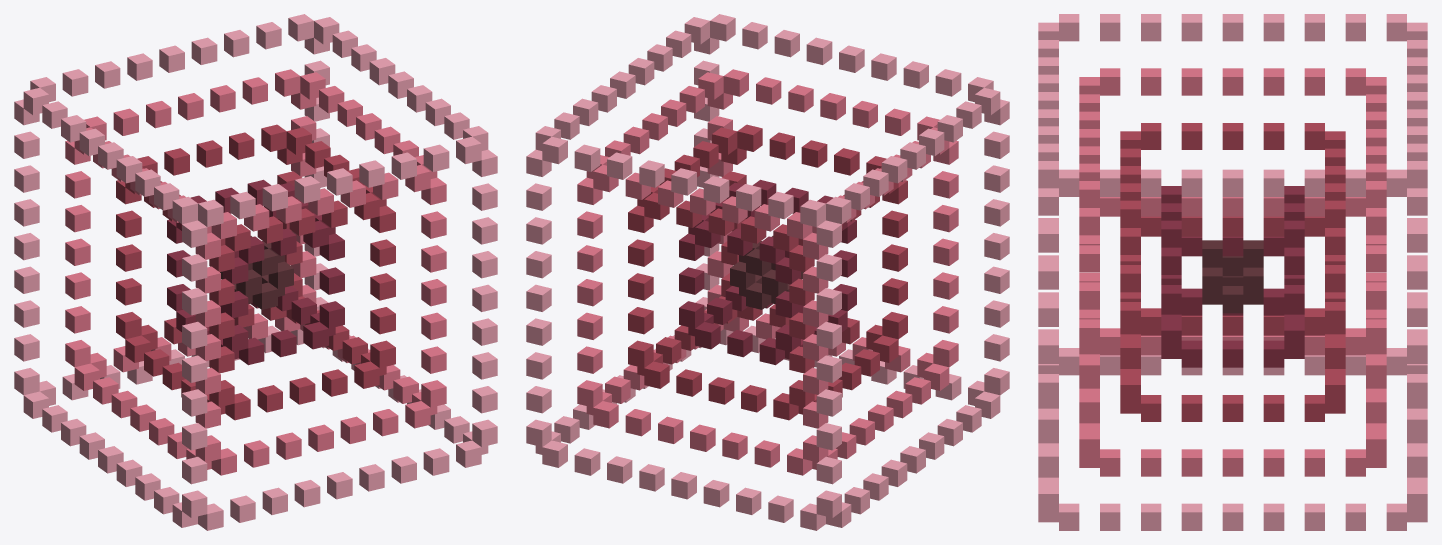
The model's file is pink_cube.glb.
The picture shows the model from 3 angles, left to right: view 1: azimuth 30°, elevation 25°; view 2: azimuth 150°, elevation 25°; view 3: azimuth 270°, elevation 25°; orthographic projection. The views are drawn at different scales.
Parts seen in each view (by area): view 1: Object_2; view 2: Object_2; view 3: Object_2.
Part boxes in pixels (x1,y1,x2,y2): Object_2: [14, 14, 497, 530]; Object_2: [526, 14, 1009, 530]; Object_2: [1038, 14, 1427, 530].
Size of the model in its own units: 38 by 38 by 38.
Materials: 1 (1 with a texture image).
